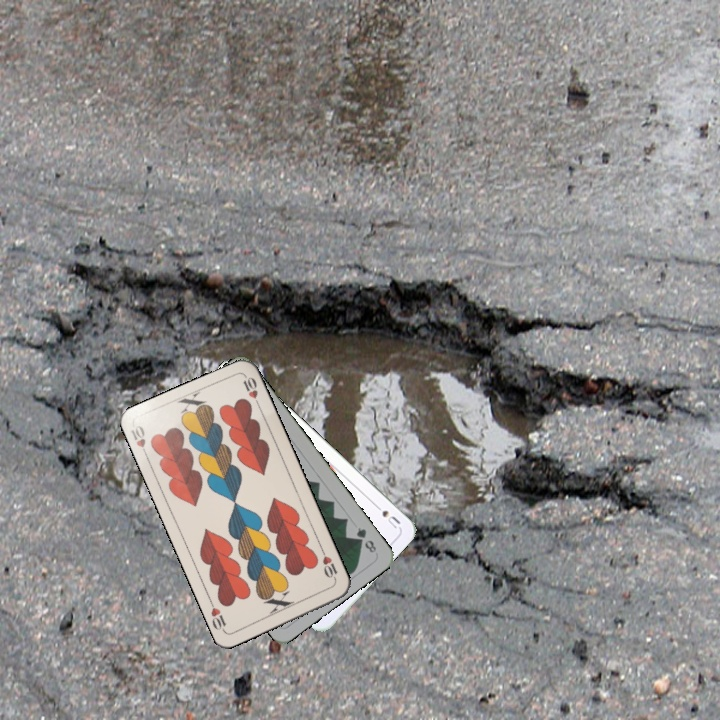G8: (352, 523, 379, 556)
H10: (127, 421, 151, 461), (317, 545, 340, 584)
SU: (369, 499, 403, 532)
